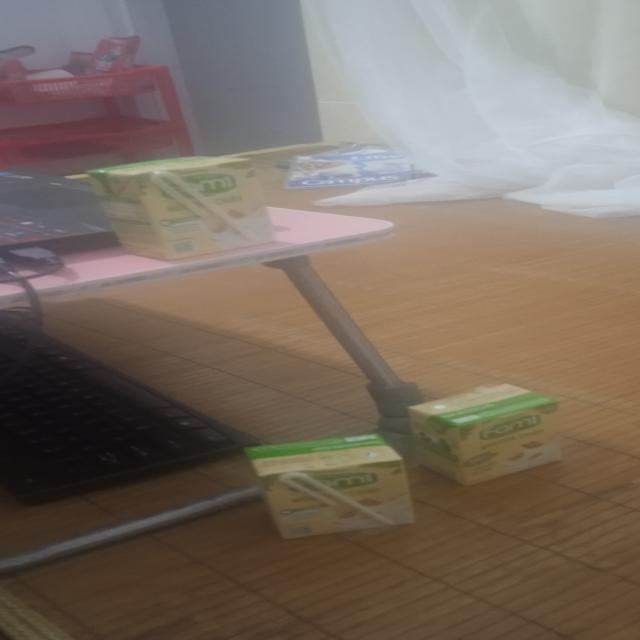Fami: (91, 154, 278, 266), (241, 437, 418, 539), (408, 382, 566, 486)
